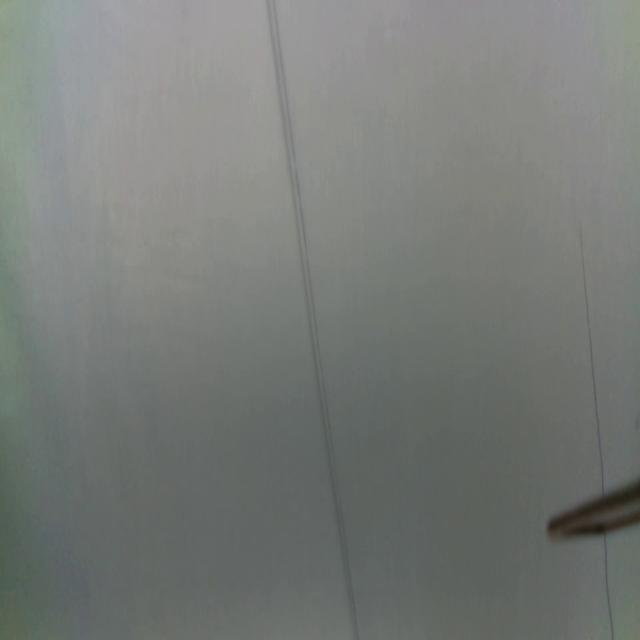crease: (265, 0, 357, 640), (578, 224, 605, 493), (602, 537, 616, 640)
